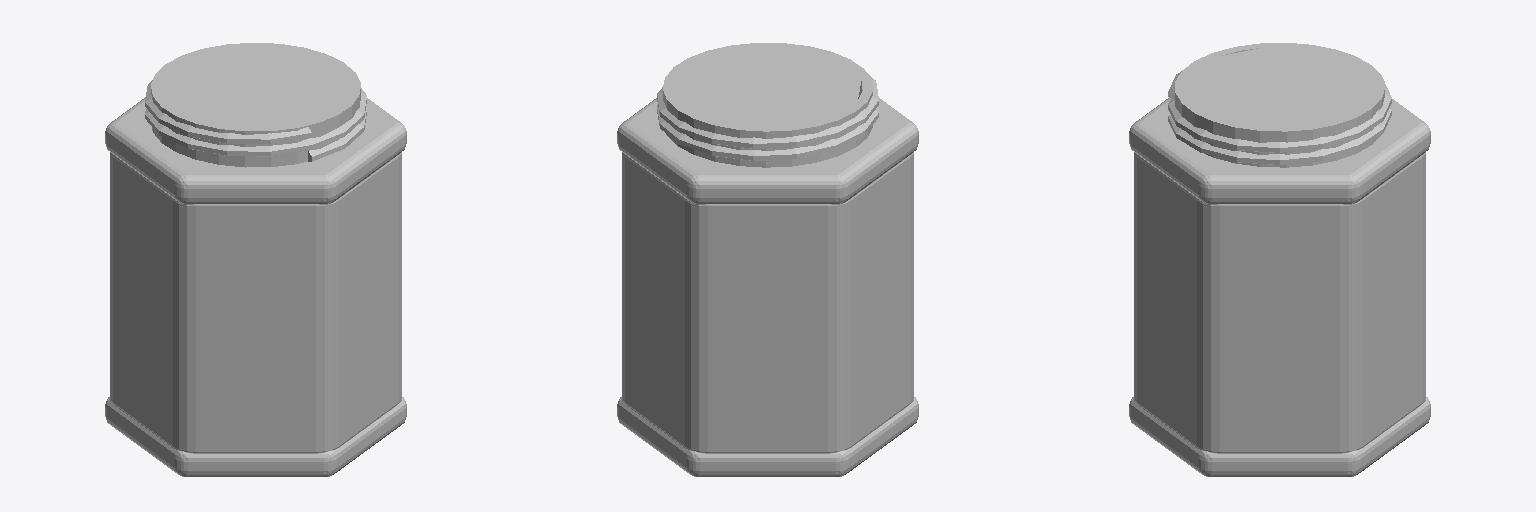
The model's file is jam_jar.obj.
3 views of the same model, side by side, from view 1: azimuth 30°, elevation 25°; view 2: azimuth 150°, elevation 25°; view 3: azimuth 270°, elevation 25° (orthographic).
Visible parts, largest first — view 1: combine; view 2: combine; view 3: combine.
Boxes of the visible parts, x1=… form: combine: x1=105, y1=43, x2=406, y2=476; combine: x1=617, y1=43, x2=918, y2=476; combine: x1=1129, y1=43, x2=1430, y2=476.
Bounding box in the file's own units: 1.76 × 2.47 × 2.